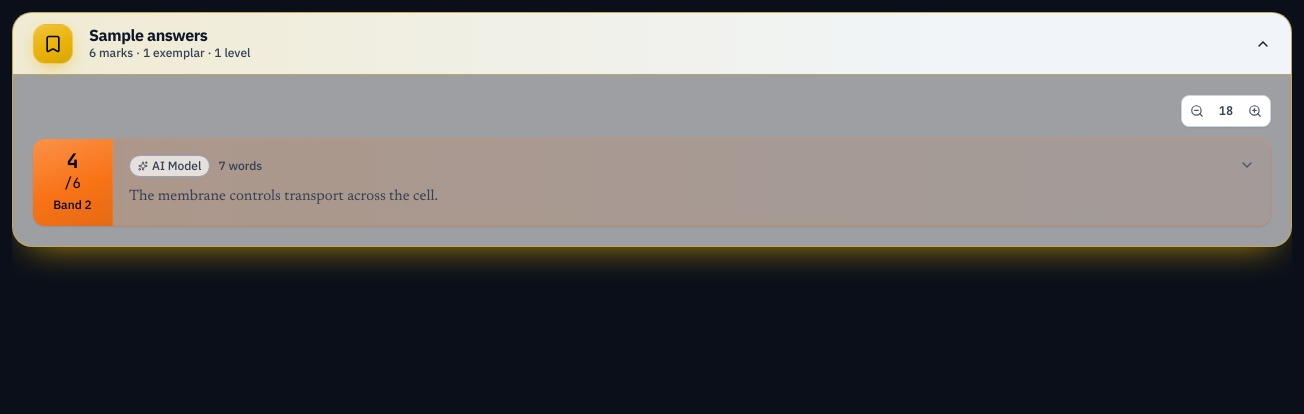
Test: the paper’s head jumps to the marking criterion in the Marking Guide › offers "View marking criterion" on the bar, with the list-check glyph, named for the mark
This screenshot has width=1304, height=414.
Click the button that starts with "AI Model": (180, 166) [113,139,1271,226]
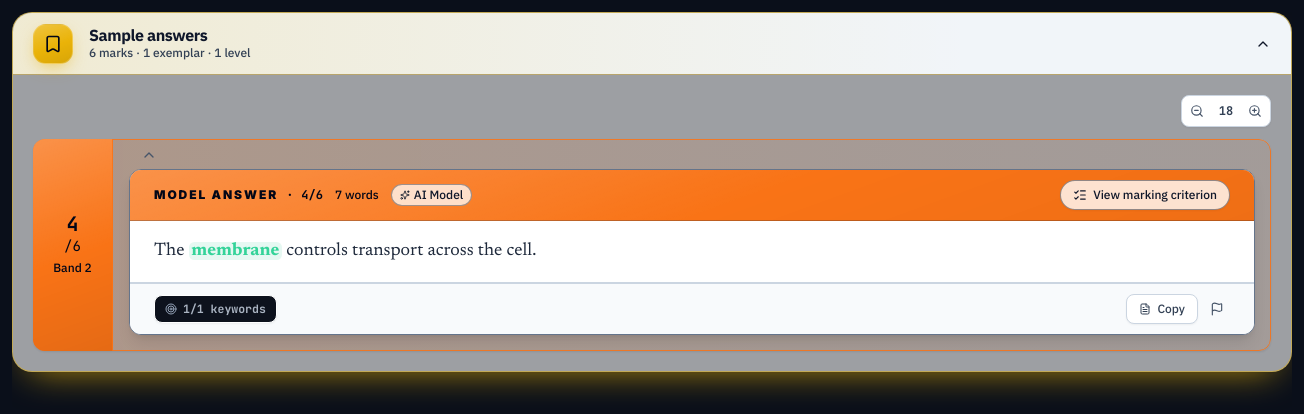
Expected: the icon with class "lucide-list-checks" is shown, [1073,188,1087,202]
Now the text "View marking criterion" is shown, box [1093,187,1217,203]
